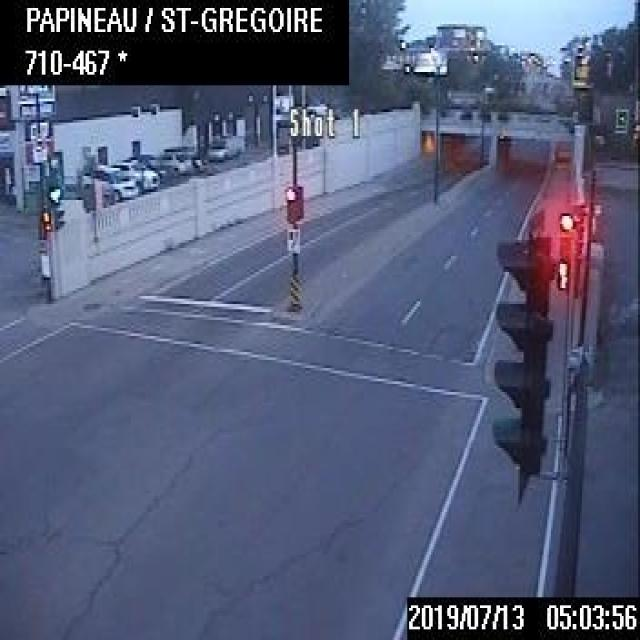vehicle: (79, 159, 135, 199), (205, 128, 245, 163), (120, 155, 157, 188), (151, 149, 194, 176)
